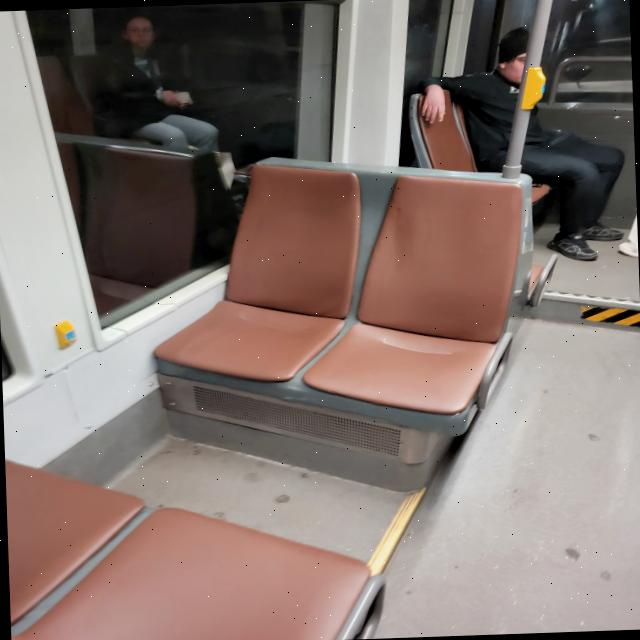empty-seat-frontal: (291, 162, 528, 418), (146, 160, 382, 387)
